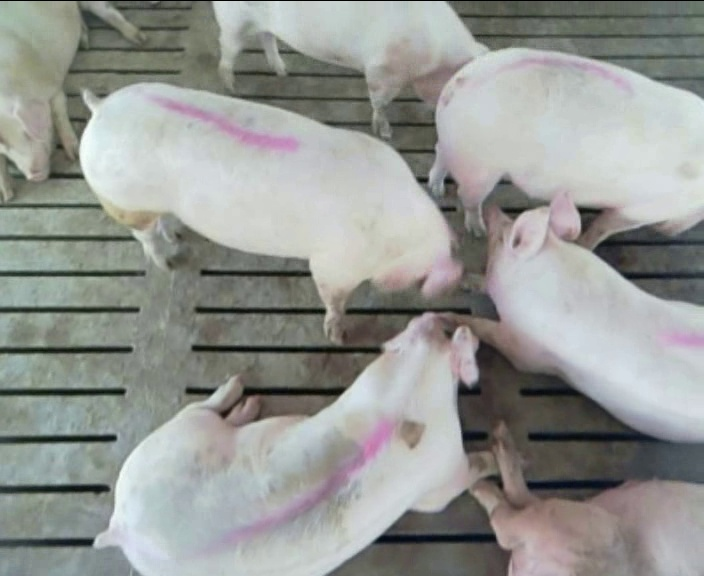pig: (96, 313, 498, 573), (80, 84, 461, 342), (439, 192, 703, 441), (213, 2, 487, 138), (470, 421, 703, 574)
